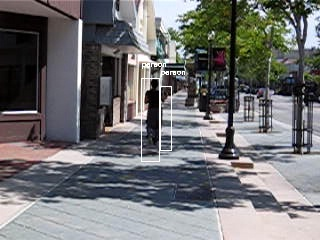person: (145, 79, 166, 145), (144, 79, 165, 145), (146, 79, 167, 145), (145, 78, 166, 144), (145, 80, 166, 146)
target_negative: (34, 116, 203, 165), (101, 185, 270, 221), (181, 41, 283, 87), (14, 71, 48, 185), (247, 227, 259, 232), (288, 212, 320, 213)
